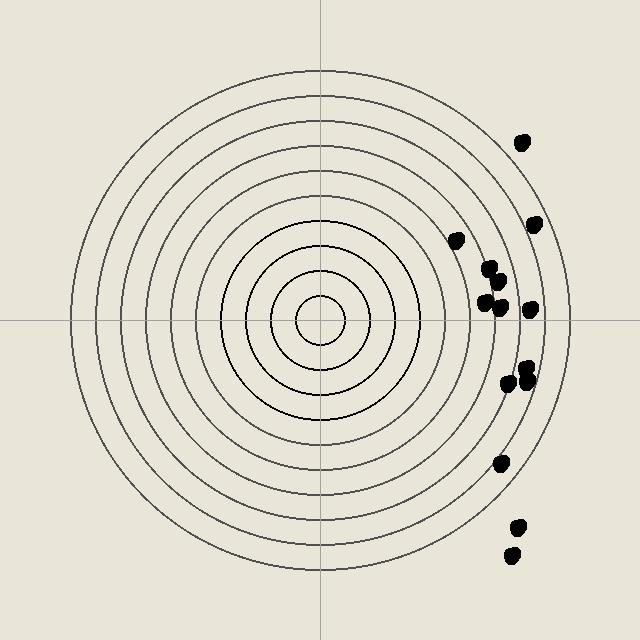vertical_scatter: (474, 292, 494, 312), (497, 373, 517, 393), (490, 453, 510, 473), (478, 258, 498, 278), (487, 271, 507, 291), (489, 297, 509, 317), (501, 545, 521, 565), (445, 230, 465, 250), (519, 299, 539, 319), (516, 371, 536, 391), (507, 517, 527, 537), (523, 214, 543, 234), (515, 358, 535, 378), (511, 132, 531, 152)
